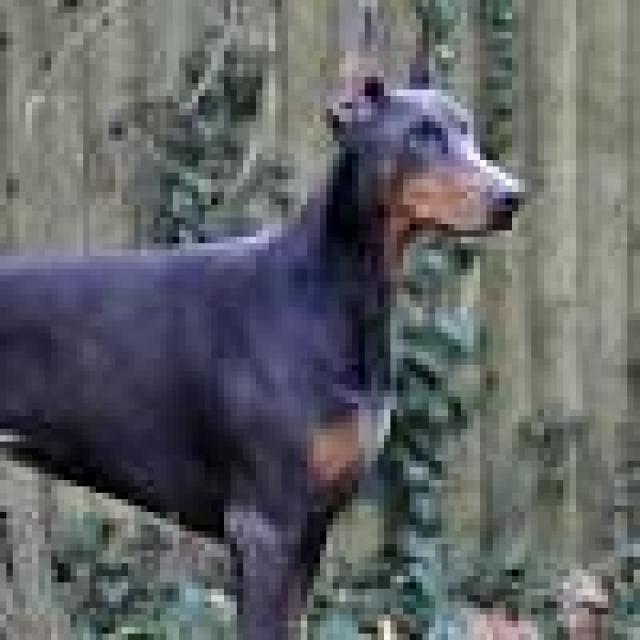Dog: (0, 64, 531, 634)
